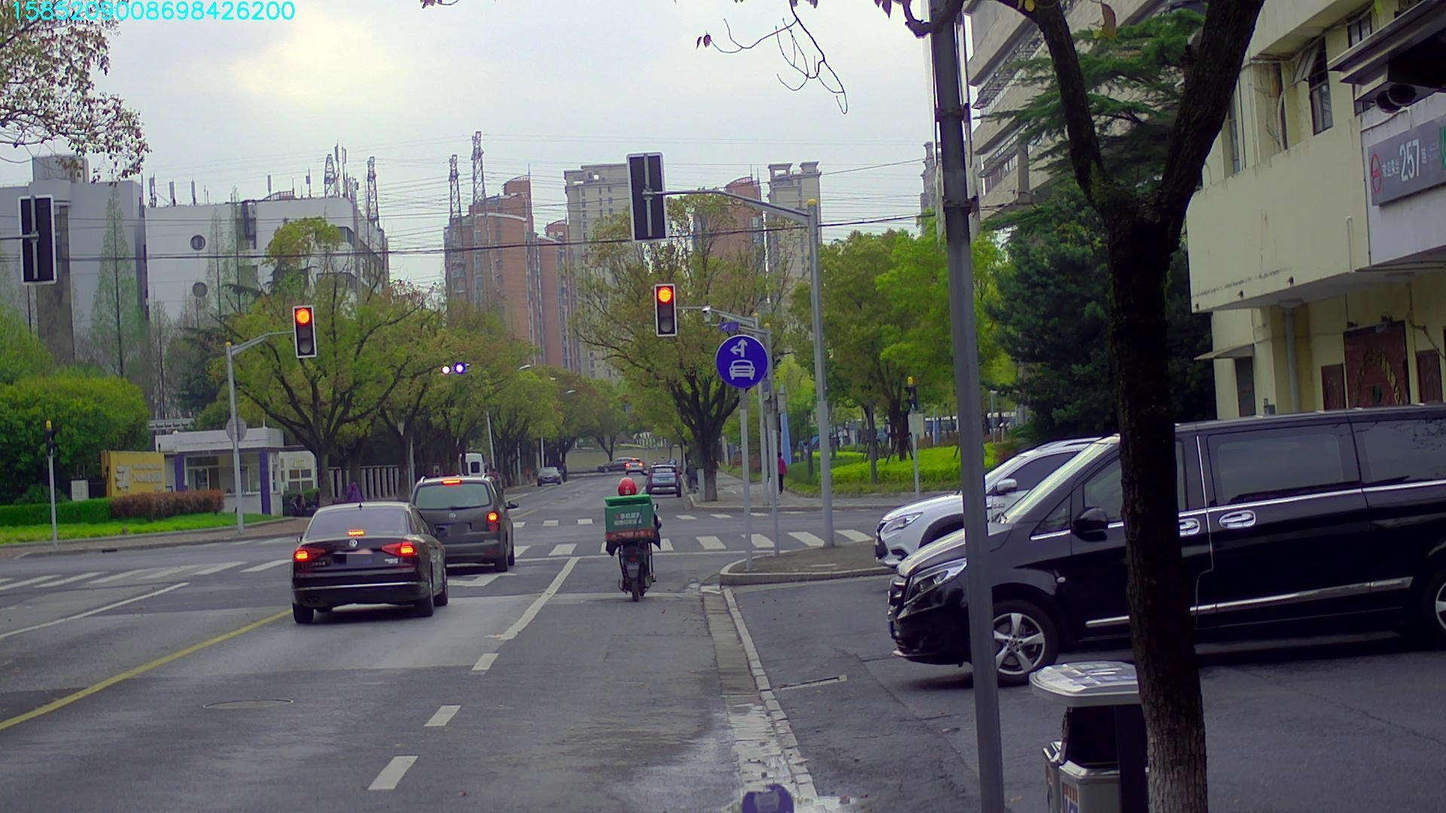red: (294, 306, 315, 356), (655, 285, 675, 334)
